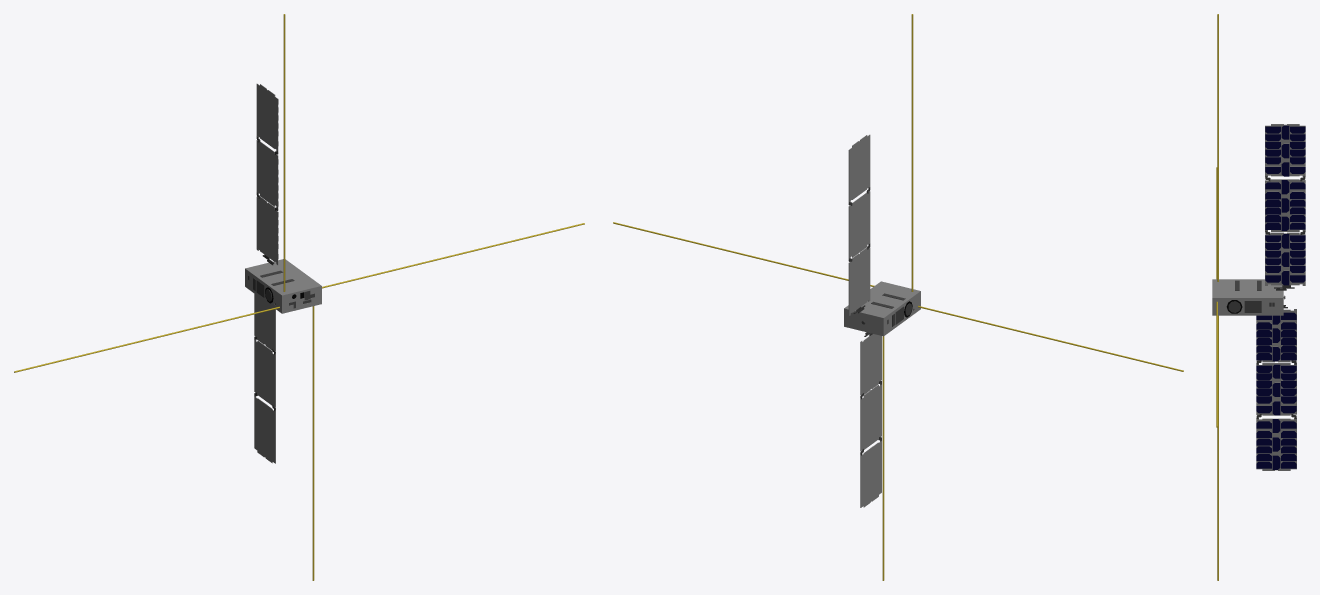
The model's file is juventas.glb.
3 views of the same model, side by side, from view 1: azimuth 30°, elevation 25°; view 2: azimuth 150°, elevation 25°; view 3: azimuth 270°, elevation 25° (orthographic). The views are drawn at different scales.
Parts seen in each view (by area): view 1: Solid1.010, Solid1.011, Solid1.012; view 2: Solid1.010, Solid1.011, Solid1.012; view 3: Solid1.011, Solid1.012, Solid1.010.
Boxes of the visible parts, x1,y1,x2,y2 form: Solid1.010: (14,14,584,580); Solid1.011: (256,83,278,265); Solid1.012: (254,294,275,463); Solid1.010: (613,14,1183,580); Solid1.011: (848,134,870,315); Solid1.012: (860,332,881,507); Solid1.011: (1265,124,1305,290); Solid1.012: (1256,305,1296,470); Solid1.010: (1212,14,1285,580).
Size of the model in its own units: 3.22 by 3.1 by 0.475.
